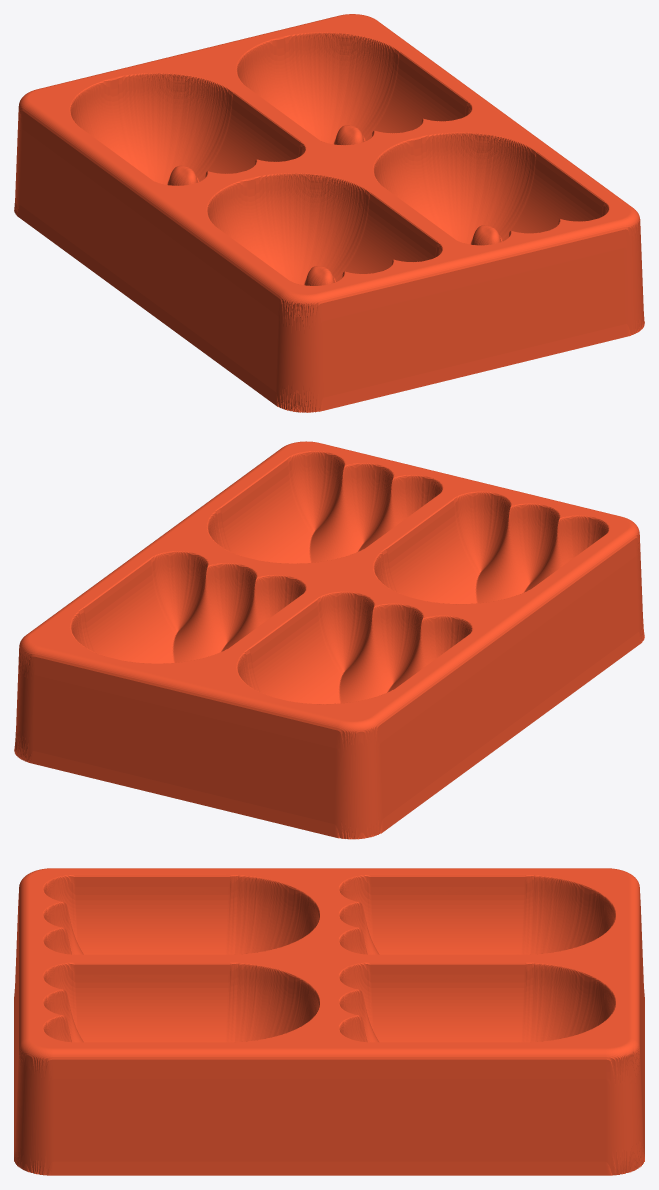
The model's file is mold.glb.
The picture shows the model from 3 angles, top to bottom: view 1: azimuth 30°, elevation 25°; view 2: azimuth 150°, elevation 25°; view 3: azimuth 270°, elevation 25°; orthographic projection. The views are drawn at different scales.
Visible parts, largest first — view 1: geometry_0; view 2: geometry_0; view 3: geometry_0.
Part boxes in pixels (x1,y1,x2,y2): geometry_0: (14, 14, 644, 412); geometry_0: (14, 441, 644, 839); geometry_0: (14, 868, 644, 1175).
Bounding box in the file's own units: 0.1057 × 0.031 × 0.1466.
